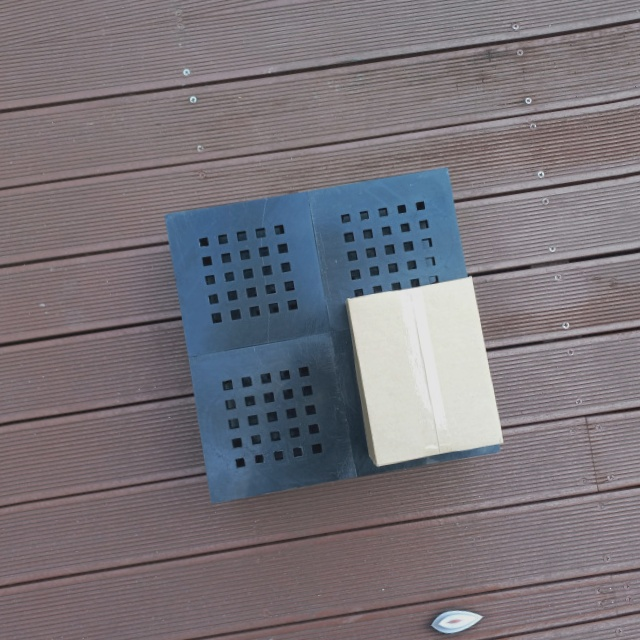box: (345, 275, 505, 468)
pallet: (161, 162, 504, 509)
